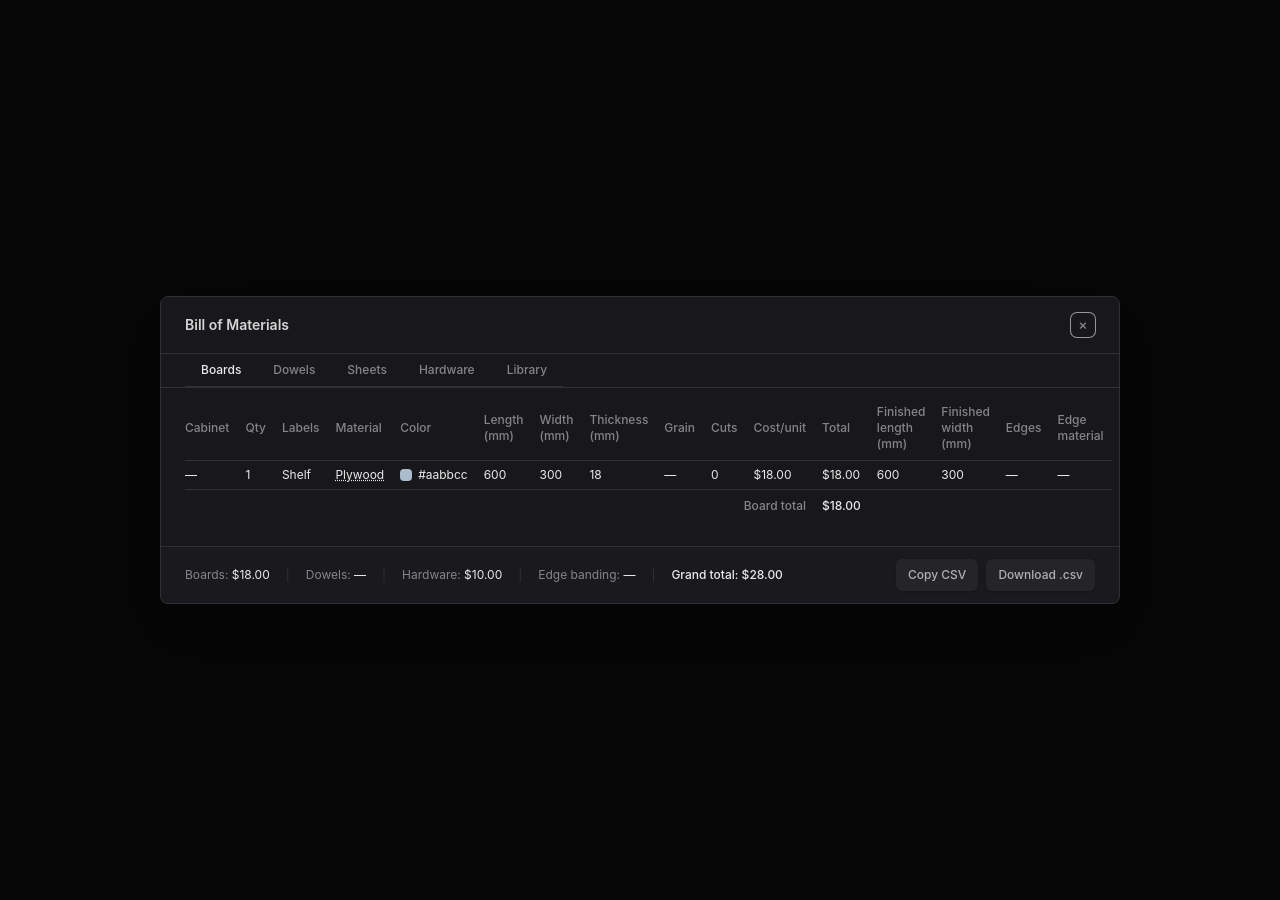
BomModal › switches to Dowels tab and shows the dowel material
The width and height of the screenshot is (1280, 900).
Click the tab "Dowels" at (294, 371), box [257,354,331,388]
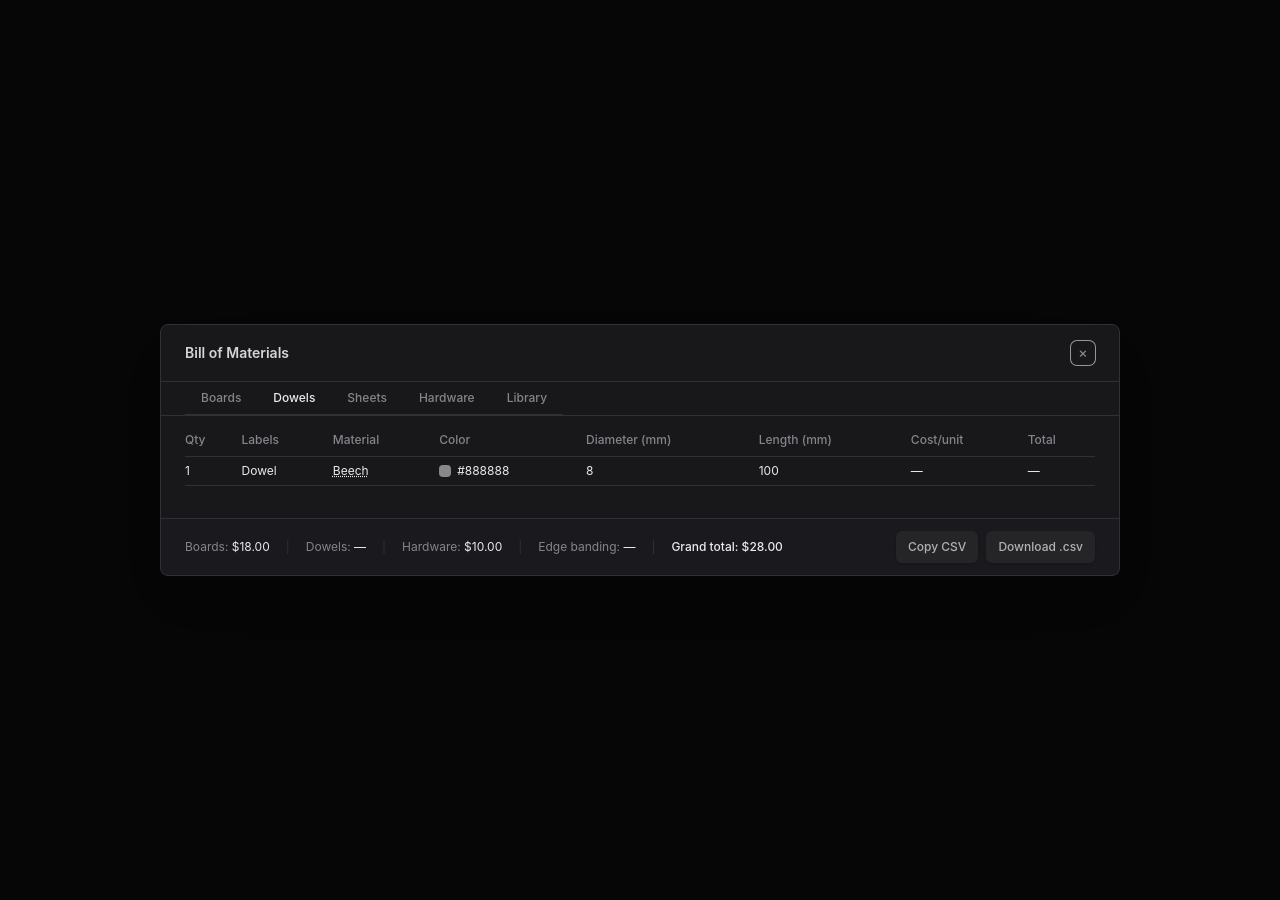
Now the button "Beech" is shown, box [333,463,369,479]
